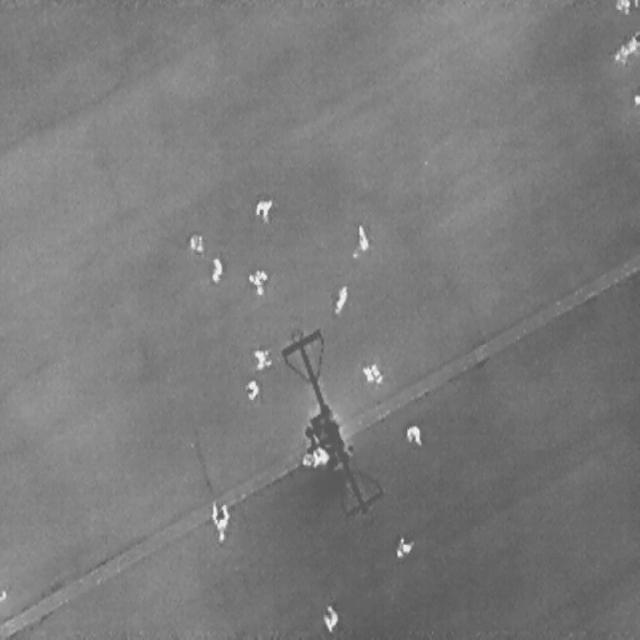Person: (612, 32, 638, 64), (330, 282, 350, 318), (211, 502, 228, 542), (352, 221, 370, 251), (247, 269, 266, 296), (253, 348, 272, 370), (254, 196, 271, 220), (322, 604, 337, 631), (397, 534, 413, 558), (362, 361, 381, 381), (405, 423, 421, 445), (312, 445, 328, 466), (187, 232, 203, 252), (244, 379, 258, 400), (212, 255, 221, 283), (614, 0, 630, 11)
